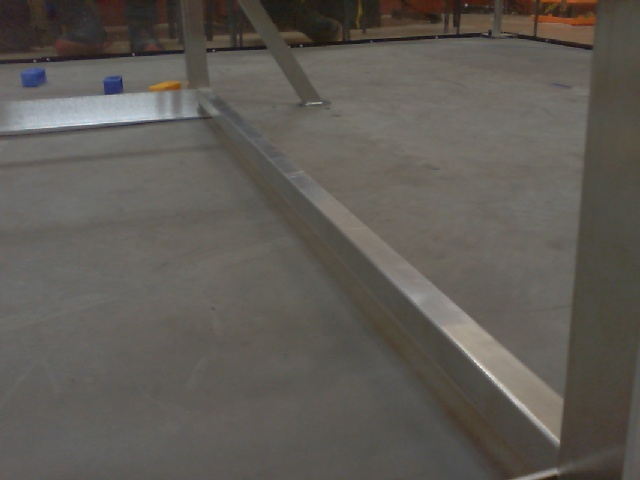BlueSample: (19, 67, 48, 90), (104, 74, 124, 94)
YellowSample: (143, 77, 184, 92)
